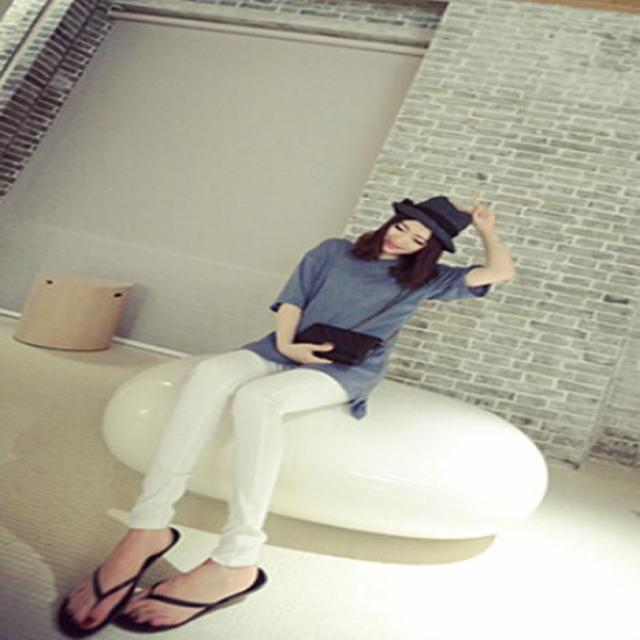trousers: (147, 351, 332, 557)
